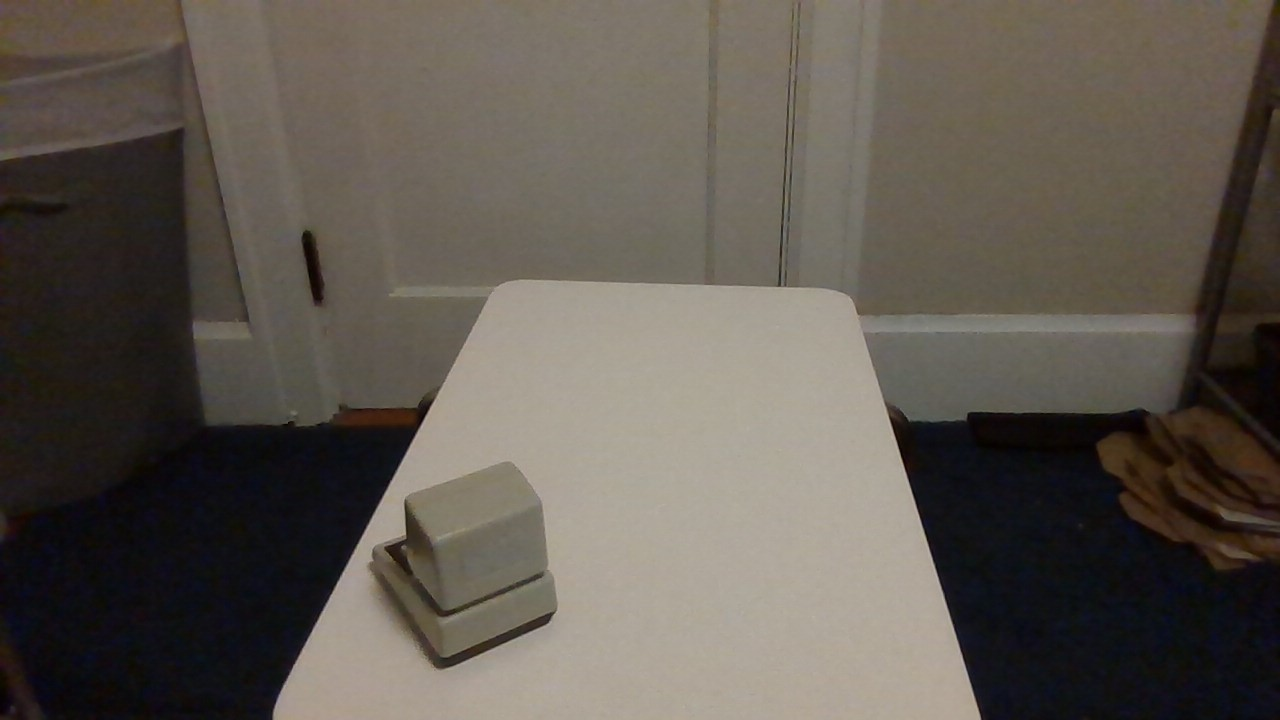Toy: (353, 446, 593, 680)
